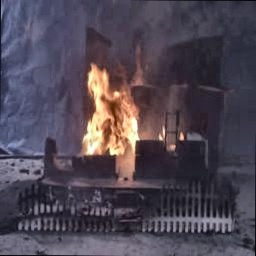fire: (78, 57, 144, 164)
